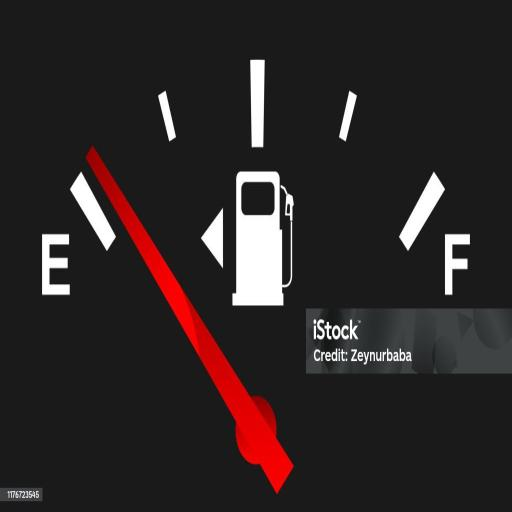empty: (34, 229, 74, 303)
fuel_icon: (231, 167, 297, 308)
full: (443, 234, 474, 296)
guage_area: (38, 45, 477, 495)
needle_center: (232, 384, 280, 471)
needle_tip: (82, 146, 110, 184)
